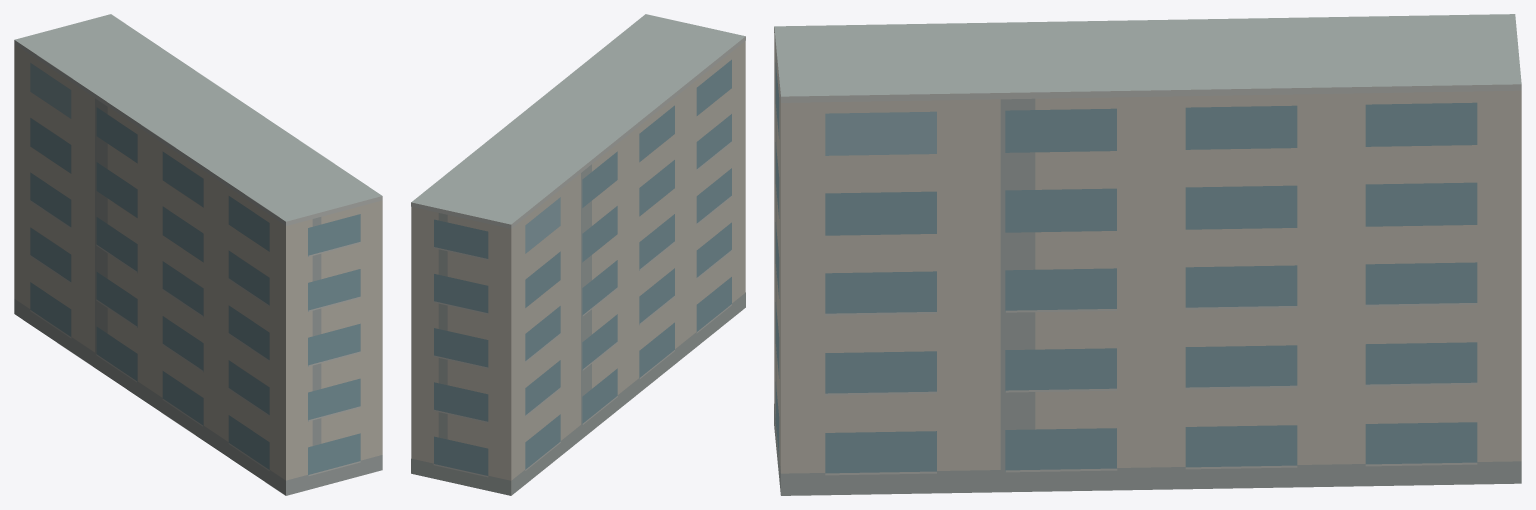
The model's file is residential-4f3e6596-b764-4458-8900-82e477c41b78.glb.
The picture shows the model from 3 angles, left to right: view 1: azimuth 30°, elevation 25°; view 2: azimuth 150°, elevation 25°; view 3: azimuth 270°, elevation 25°; orthographic projection. The views are drawn at different scales.
Visible parts, largest first — view 1: residential-4f3e6596-b764-4458-8900-82e477c41b78.tmp; view 2: residential-4f3e6596-b764-4458-8900-82e477c41b78.tmp; view 3: residential-4f3e6596-b764-4458-8900-82e477c41b78.tmp.
Boxes of the visible parts, x1,y1,x2,y2 form: residential-4f3e6596-b764-4458-8900-82e477c41b78.tmp: (14, 14, 382, 495); residential-4f3e6596-b764-4458-8900-82e477c41b78.tmp: (411, 14, 745, 495); residential-4f3e6596-b764-4458-8900-82e477c41b78.tmp: (774, 14, 1521, 495).
Bounding box in the file's own units: 6.77 × 15.25 × 25.88.
